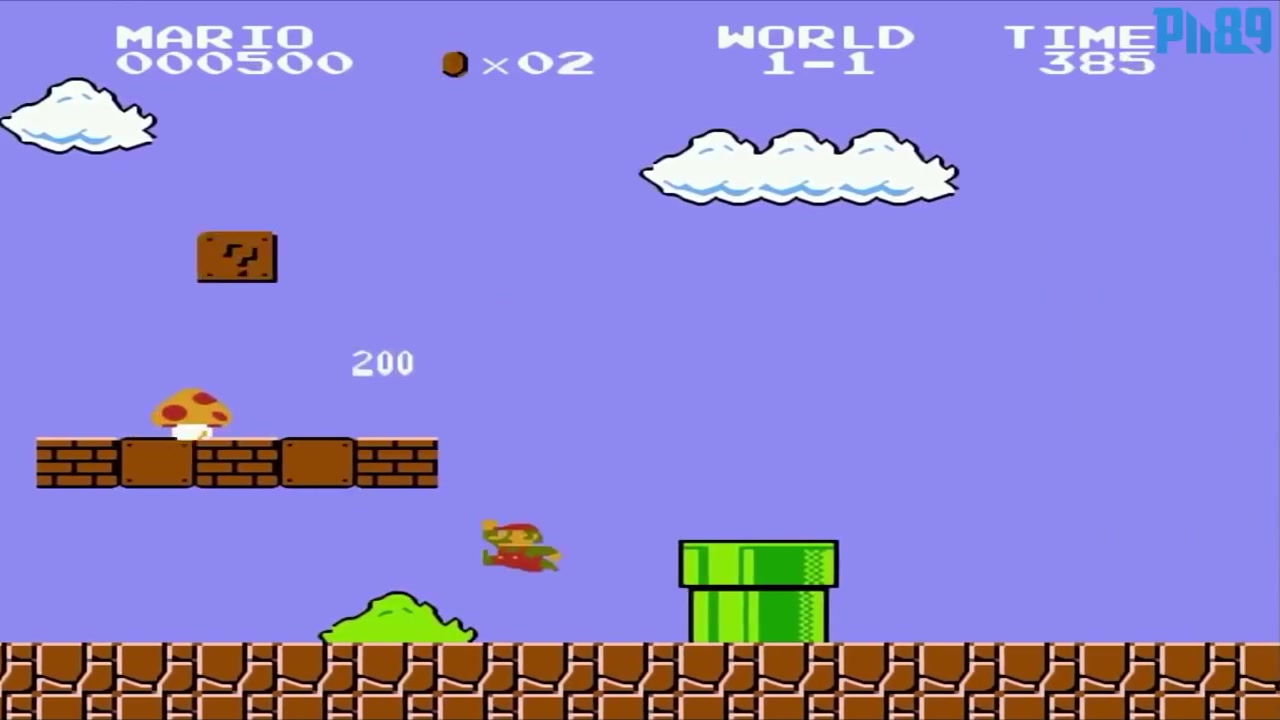mario: (469, 506, 570, 583)
